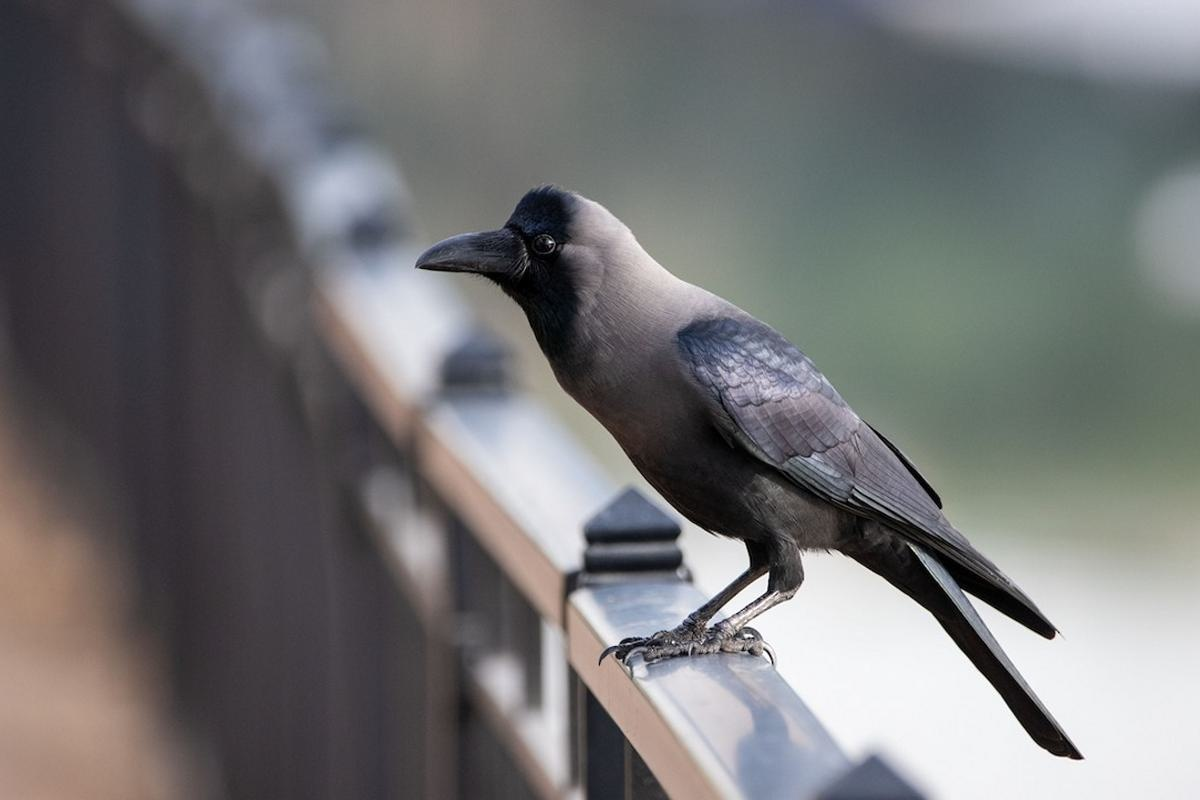crow: (426, 165, 1115, 774)
